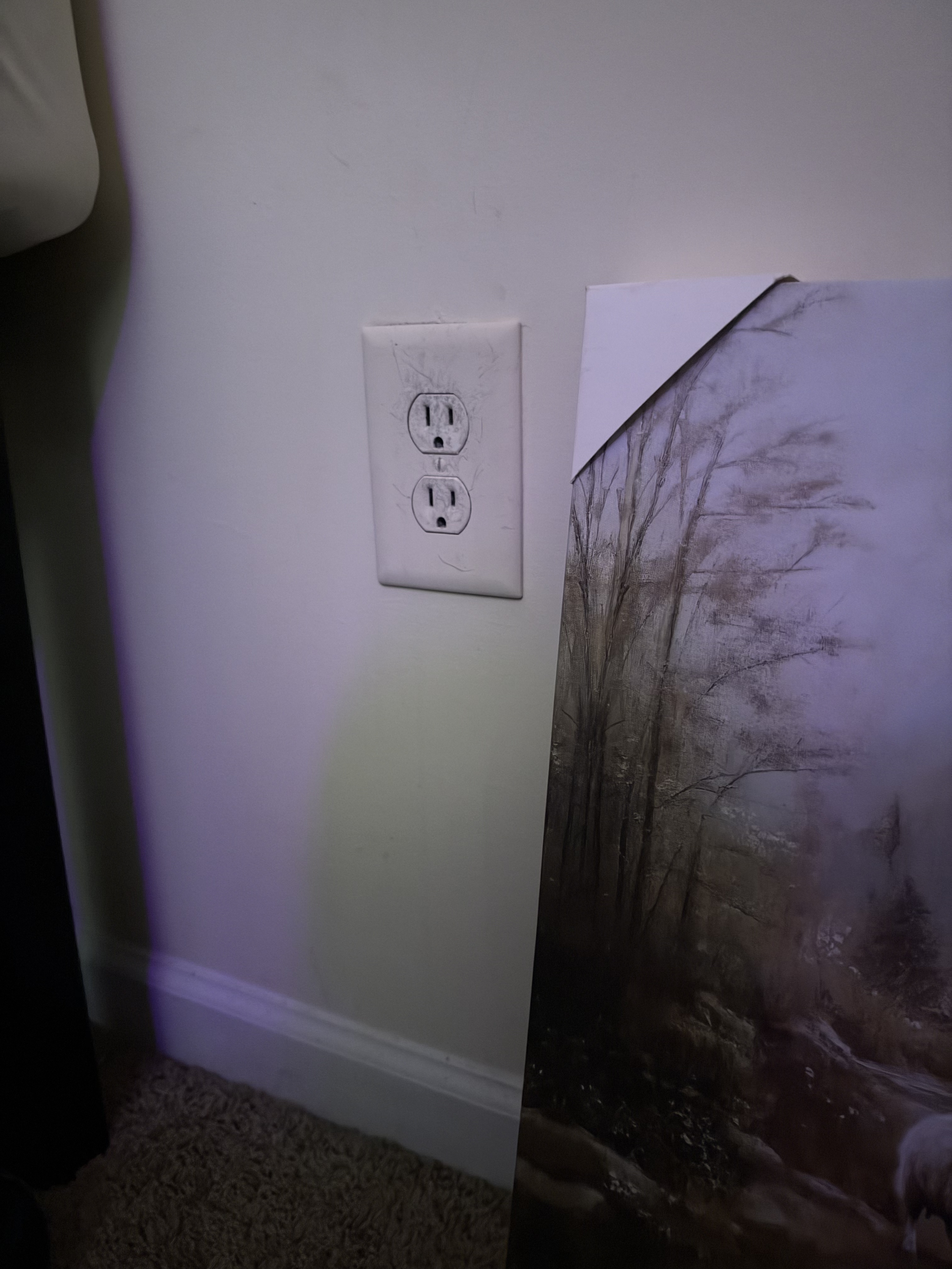outlet: (365, 327, 525, 598)
